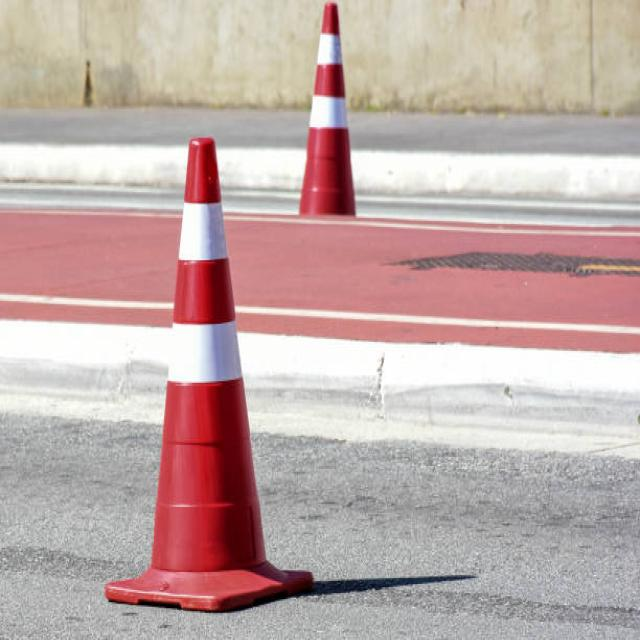Traffic Cone: (87, 95, 330, 630), (277, 0, 373, 235)
